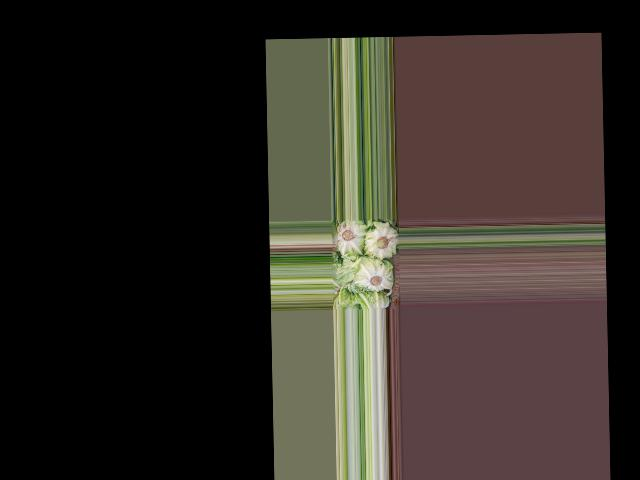lettuce: (335, 219, 367, 255)
